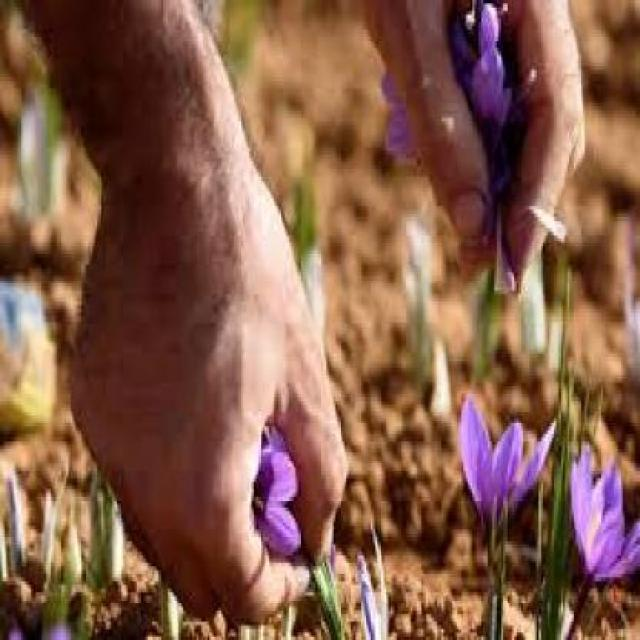saffron open: (459, 397, 554, 526), (570, 445, 639, 608)
